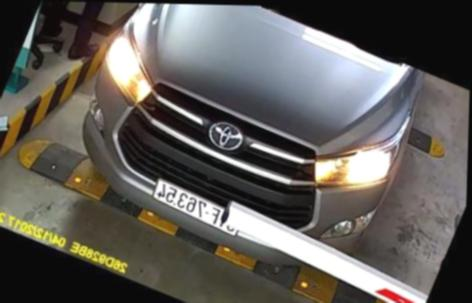License_Plate: (139, 178, 251, 243)
